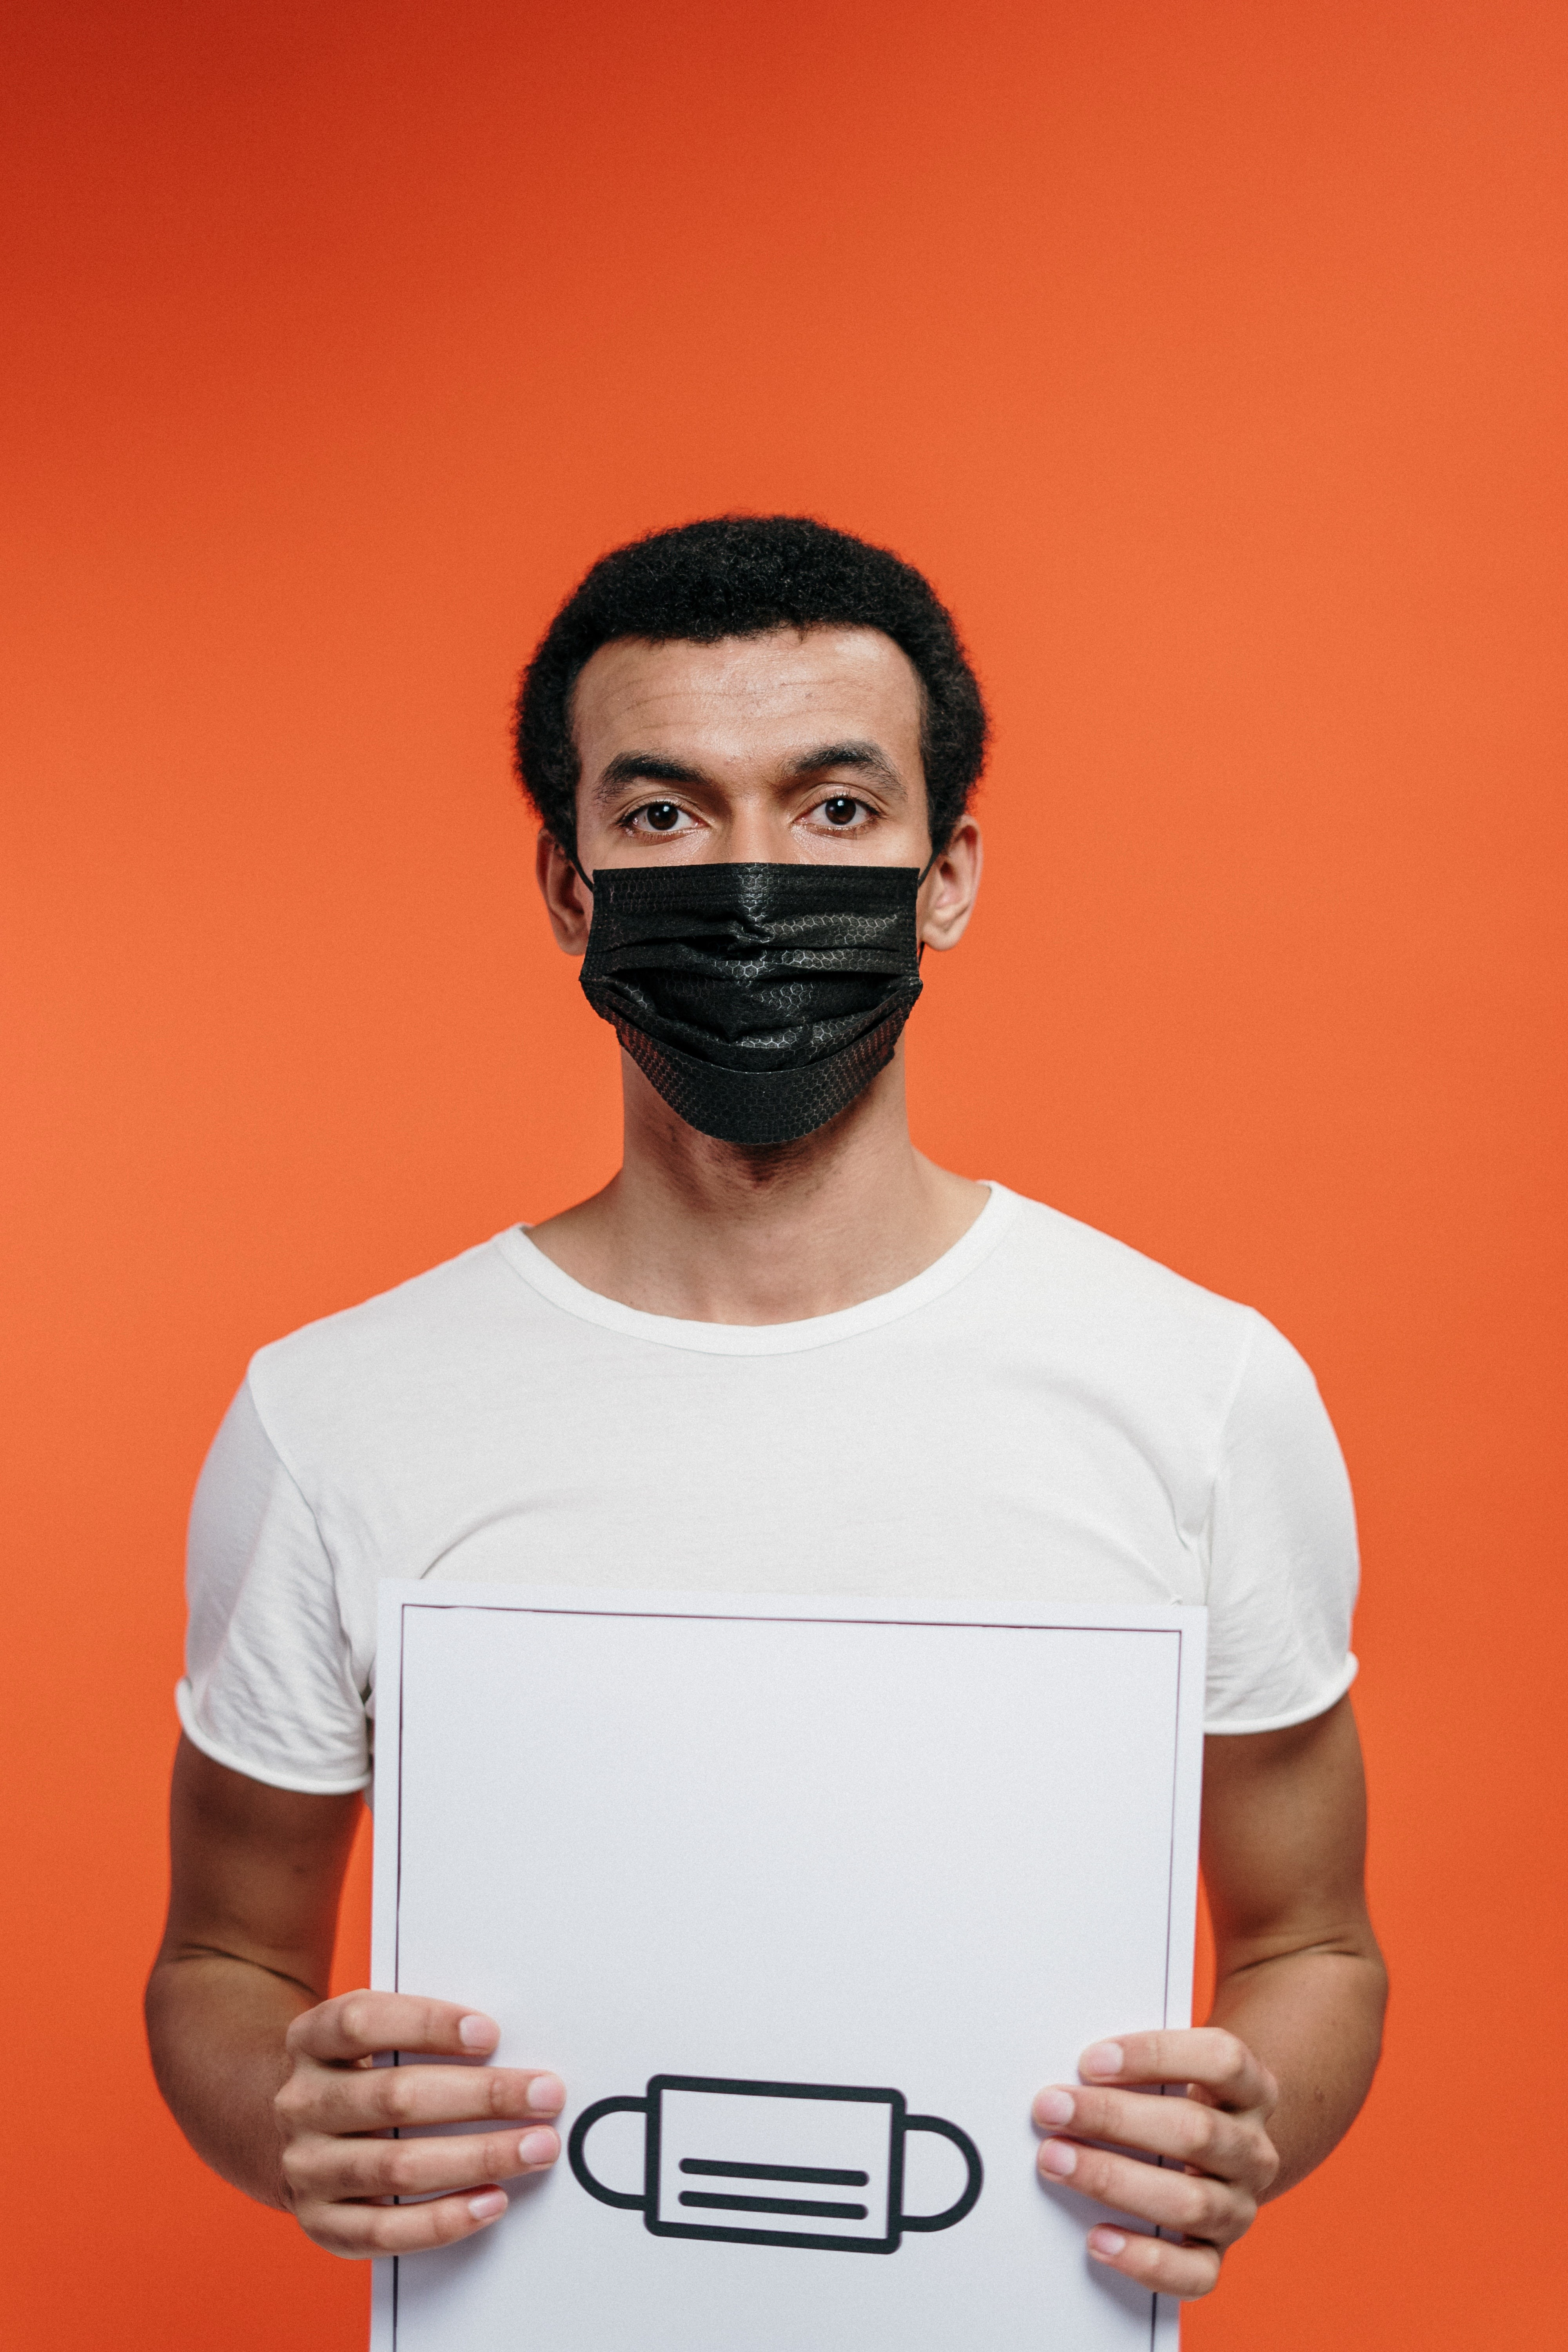face_with_mask: (516, 601, 1019, 1204)
